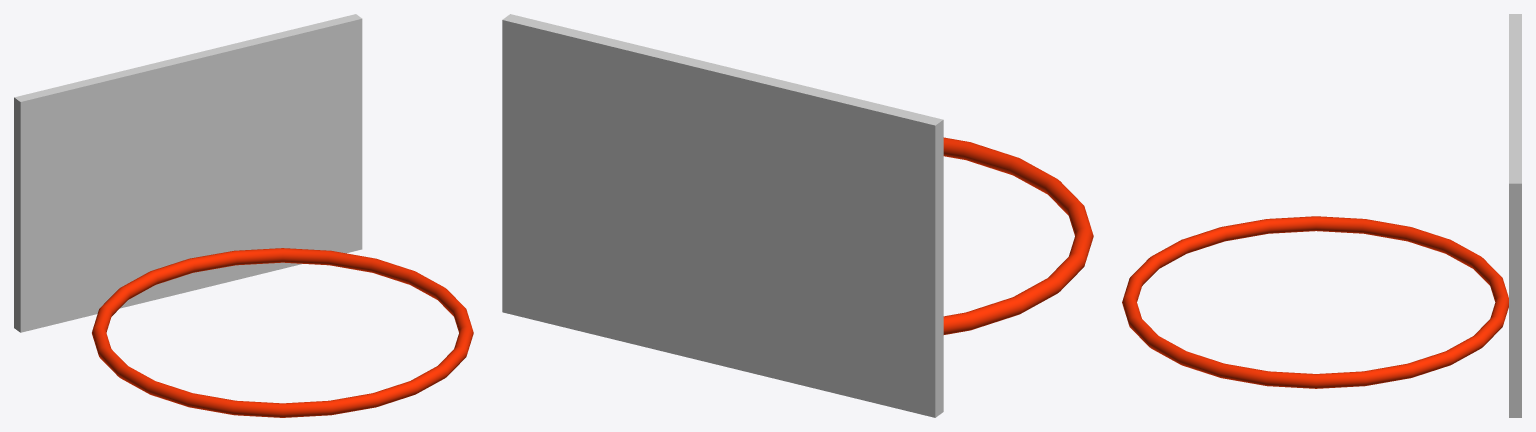
File: Hoop.FBX
The picture shows the model from 3 angles, left to right: view 1: azimuth 30°, elevation 25°; view 2: azimuth 150°, elevation 25°; view 3: azimuth 270°, elevation 25°; orthographic projection. The views are drawn at different scales.
Parts seen in each view (by area): view 1: Box001, Torus001; view 2: Box001, Torus001; view 3: Torus001, Box001.
Boxes of the visible parts, bbox=[...] form: Box001: bbox=[14, 14, 362, 332]; Torus001: bbox=[92, 248, 473, 417]; Box001: bbox=[502, 14, 943, 417]; Torus001: bbox=[943, 137, 1093, 334]; Torus001: bbox=[1122, 216, 1508, 388]; Box001: bbox=[1509, 14, 1521, 417].
Size of the model in its own units: 2.15 by 1.39 by 2.14.
